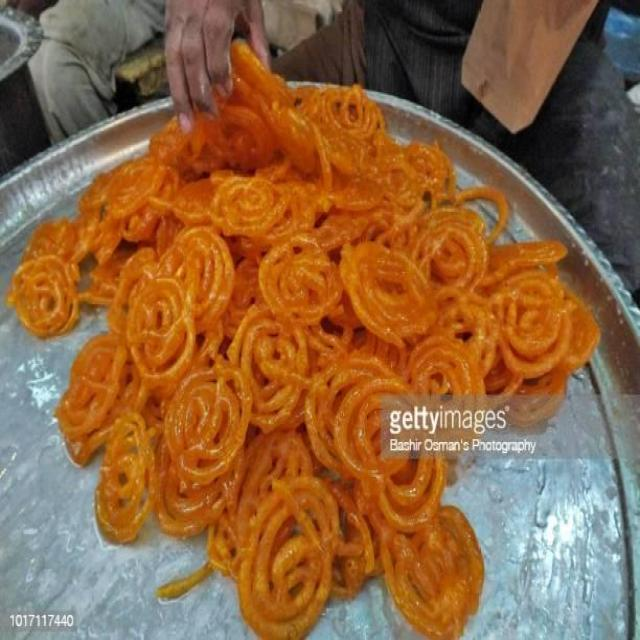jalebi: (33, 51, 604, 634)
